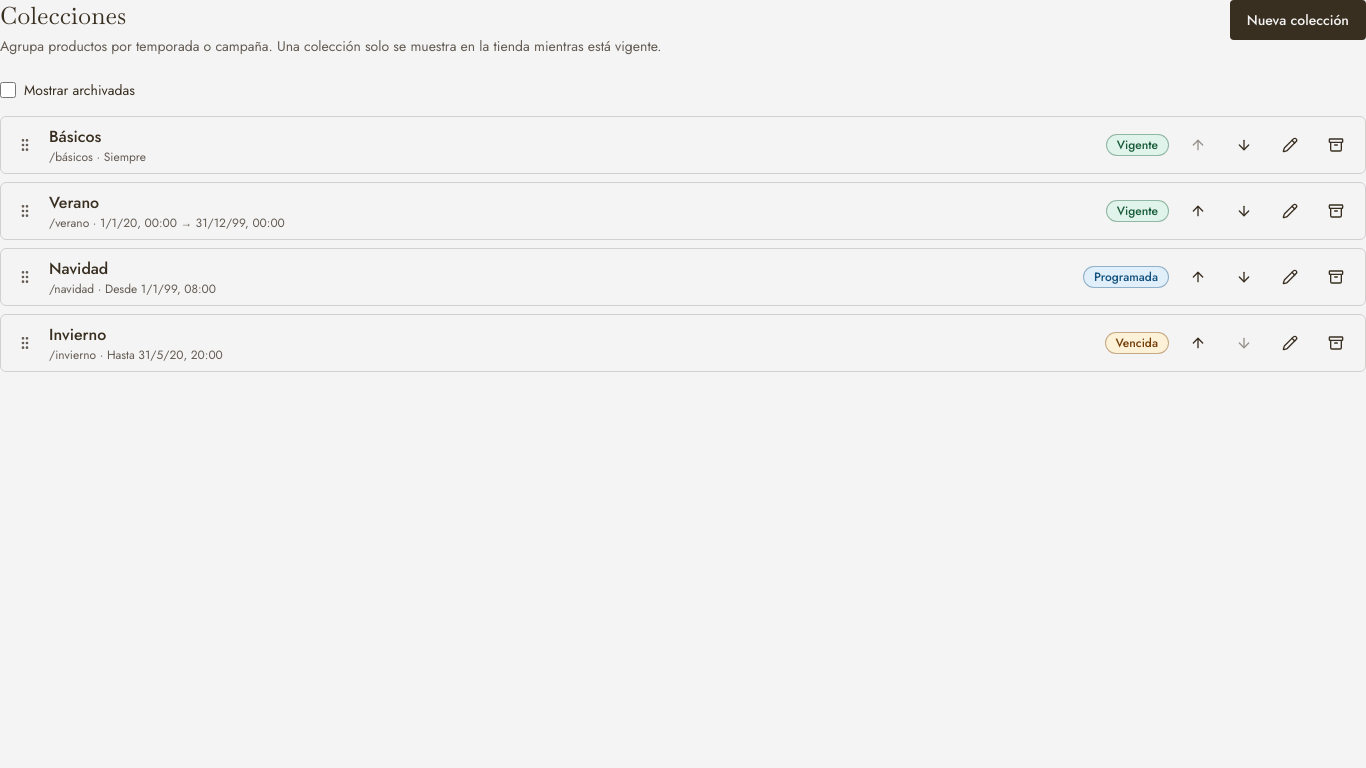
Test: CollectionsPage · crear › crea con la vigencia convertida de hora de La Paz a UTC
Expected: the text "Básicos" is shown, [49, 125, 101, 148]
Step 1. Click the button "Nueva colección" → [1298, 20], box [1230, 0, 1365, 40]
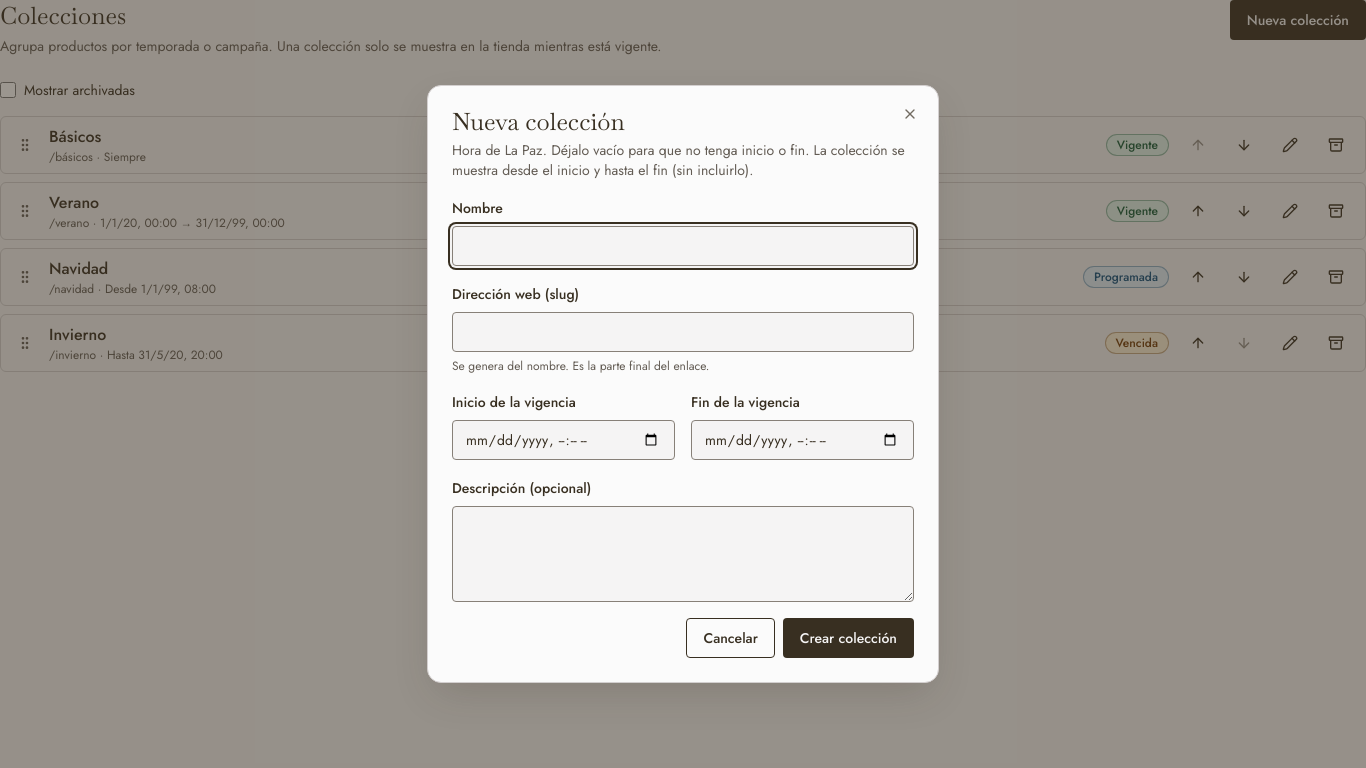
Step 2. Type "Otoño 2027" into the field labelled "Nombre" → [683, 246], box [452, 226, 914, 266]
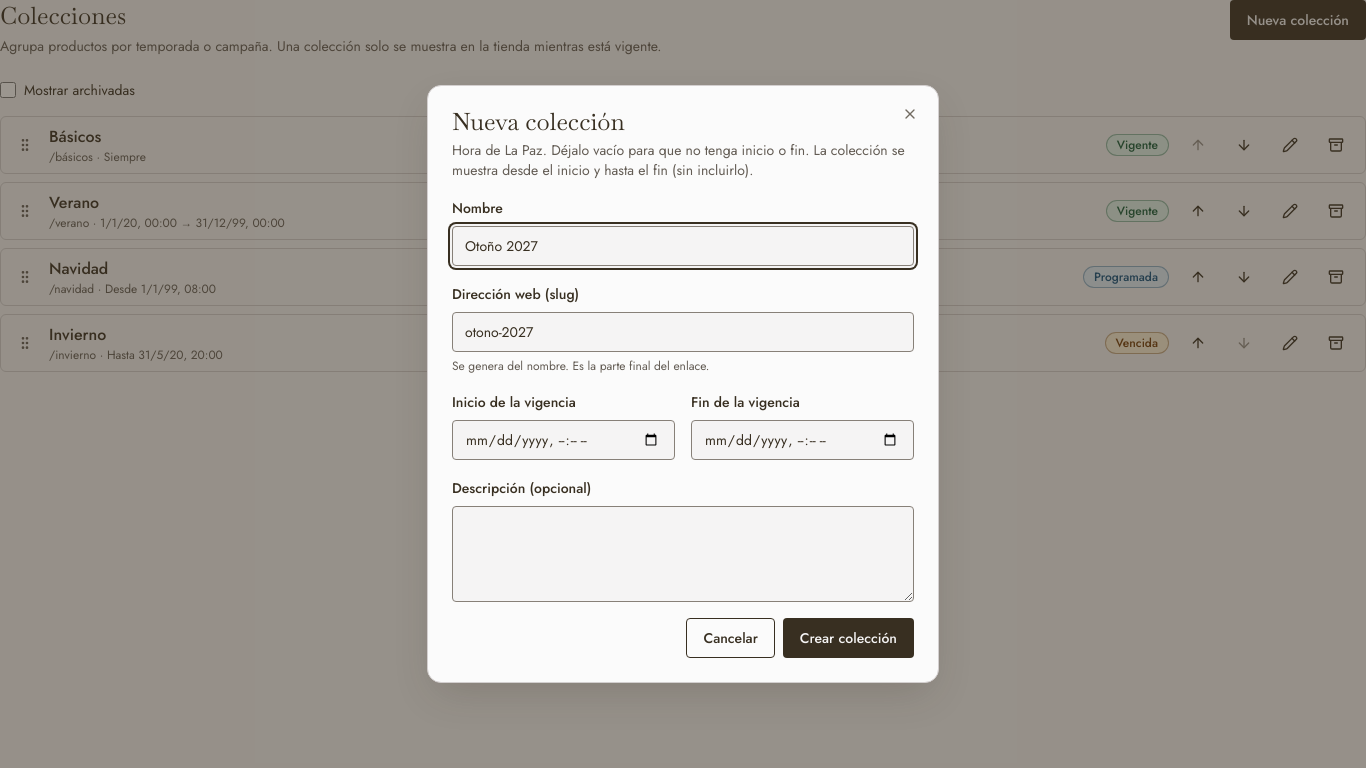
Result: the field labelled "Dirección web (slug)" holds "otono-2027" at [452, 312, 914, 352]
Step 3. Type "2026-10-29T08:00" into the field labelled "Inicio de la vigencia" → [564, 440], box [452, 420, 675, 460]
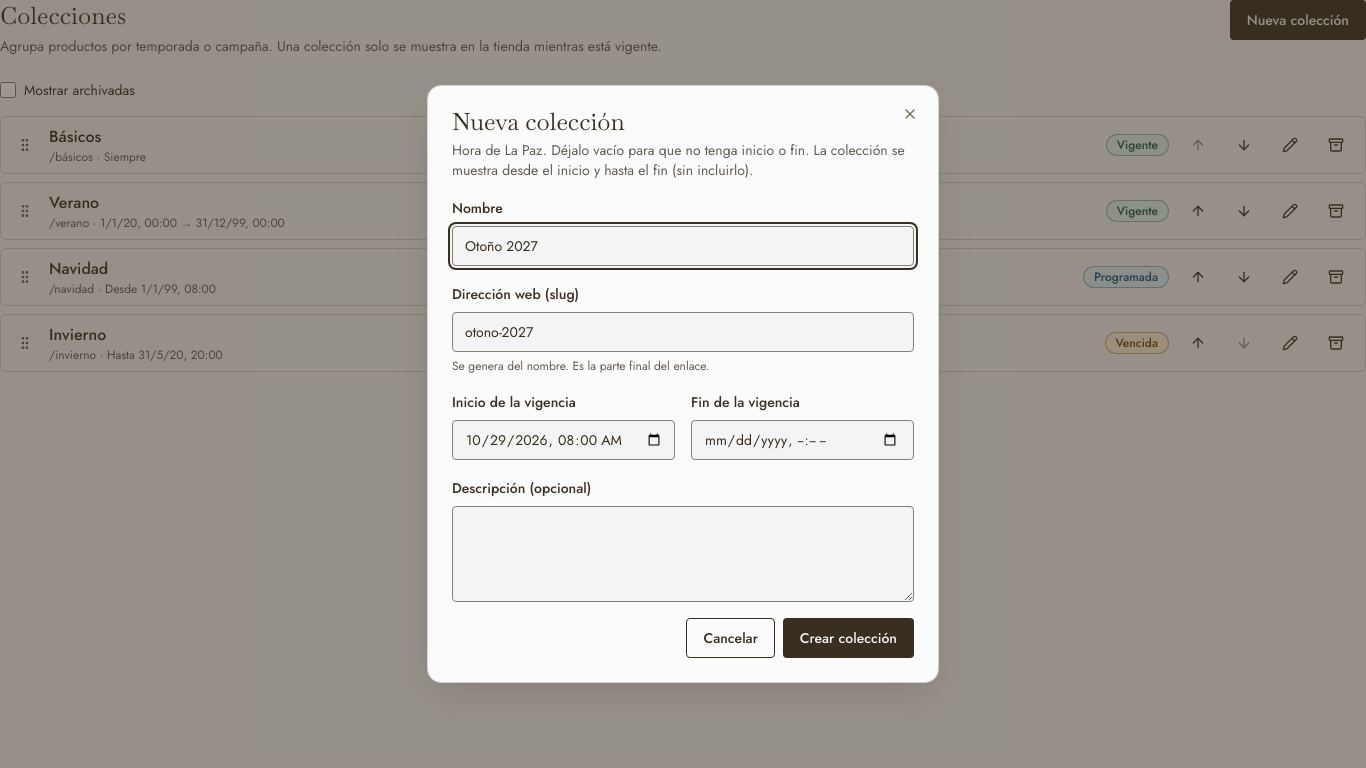
Step 4. Type "2026-12-01T00:00" into the field labelled "Fin de la vigencia" → [802, 440], box [691, 420, 914, 460]
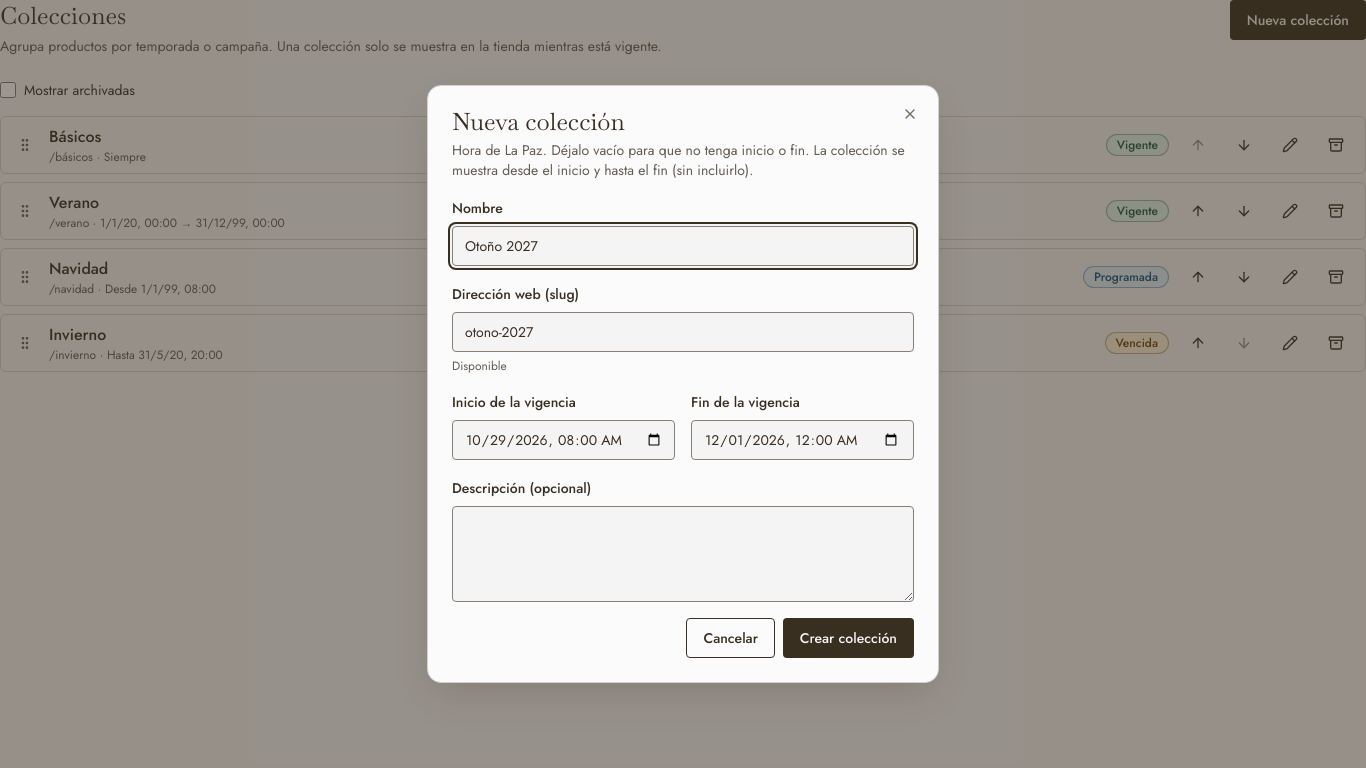
Result: the text "Disponible" is shown at [452, 357, 507, 375]
Step 5. Click the button "Crear colección" → [848, 638], box [783, 618, 914, 658]
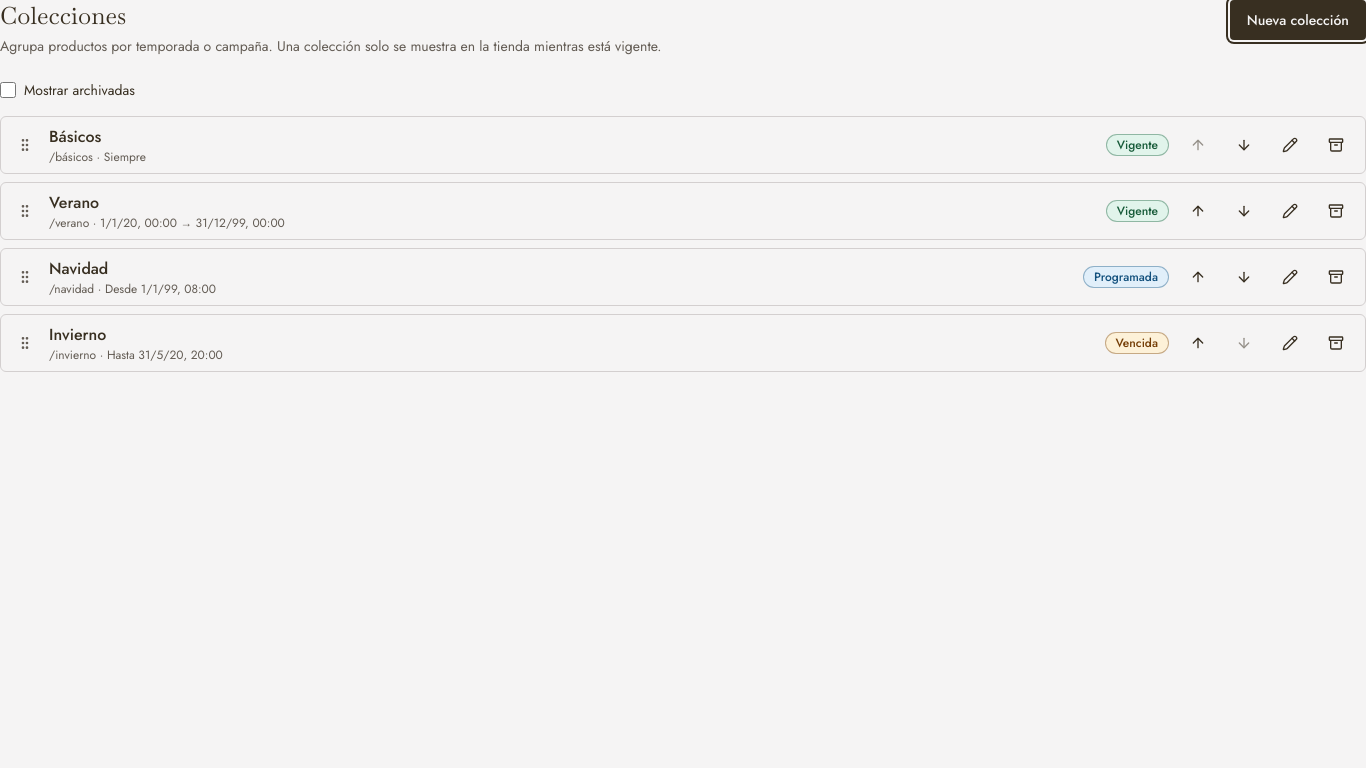
Result: the dialog is gone
